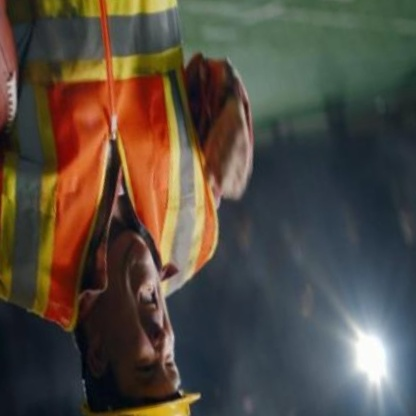vest: (0, 0, 249, 348)
yellow: (67, 373, 221, 416)
